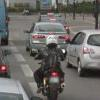Motorcycle: (27, 36, 72, 100)
